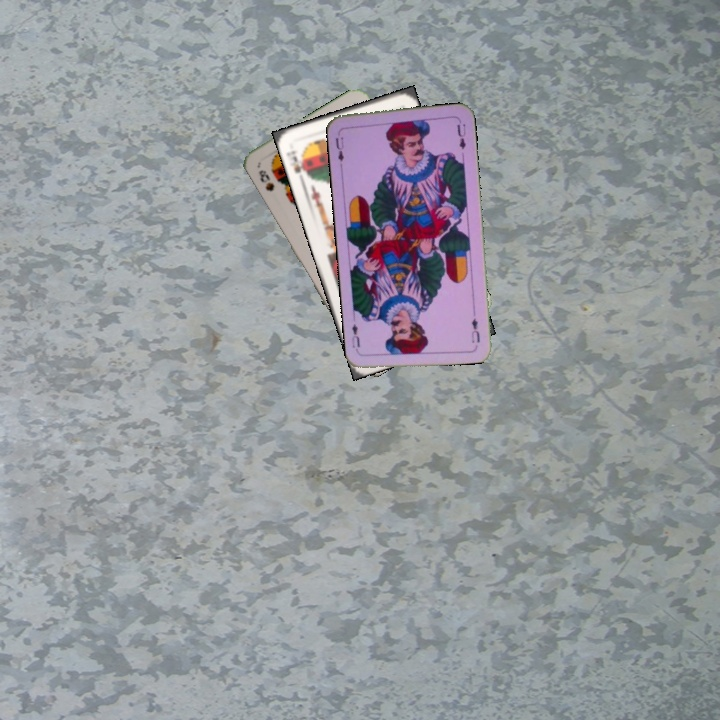EU: (331, 128, 347, 169), (468, 306, 482, 345)
S8: (254, 166, 277, 194)
SK: (282, 146, 311, 179)
